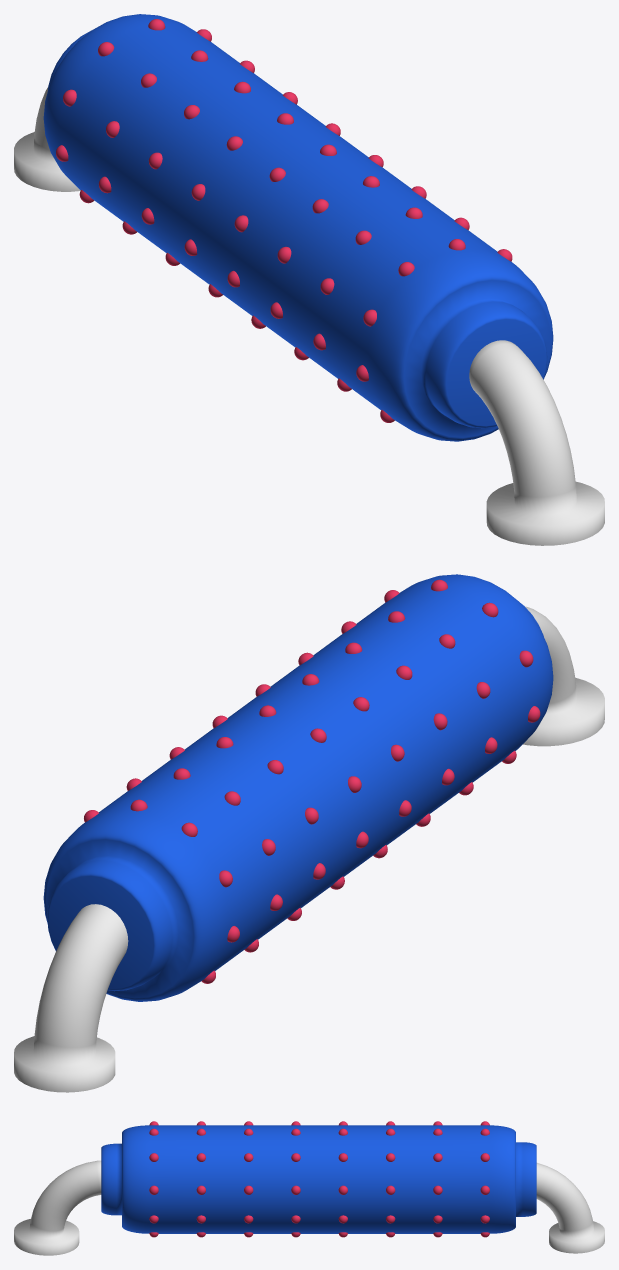
The model's file is obstacle_cylander.fbx.
3 renders of one model, top to bottom at view 1: azimuth 30°, elevation 25°; view 2: azimuth 150°, elevation 25°; view 3: azimuth 270°, elevation 25°, orthographic. The views are drawn at different scales.
Visible parts, largest first — view 1: Cylinder, Cylinder.002, Cylinder.001; view 2: Cylinder, Cylinder.001, Cylinder.002; view 3: Cylinder, Cylinder.002, Cylinder.001.
Part boxes in pixels (left/top/right/bottom): Cylinder: left=43, top=14, right=553, bottom=441; Cylinder.002: left=469, top=340, right=604, bottom=545; Cylinder.001: left=14, top=87, right=80, bottom=191; Cylinder: left=43, top=574, right=553, bottom=1001; Cylinder.001: left=14, top=904, right=128, bottom=1092; Cylinder.002: left=523, top=606, right=604, bottom=746; Cylinder: left=101, top=1121, right=536, bottom=1237; Cylinder.002: left=14, top=1160, right=101, bottom=1255; Cylinder.001: left=536, top=1163, right=604, bottom=1253.
Bounding box in the file's own units: 212 × 235 × 1089.
